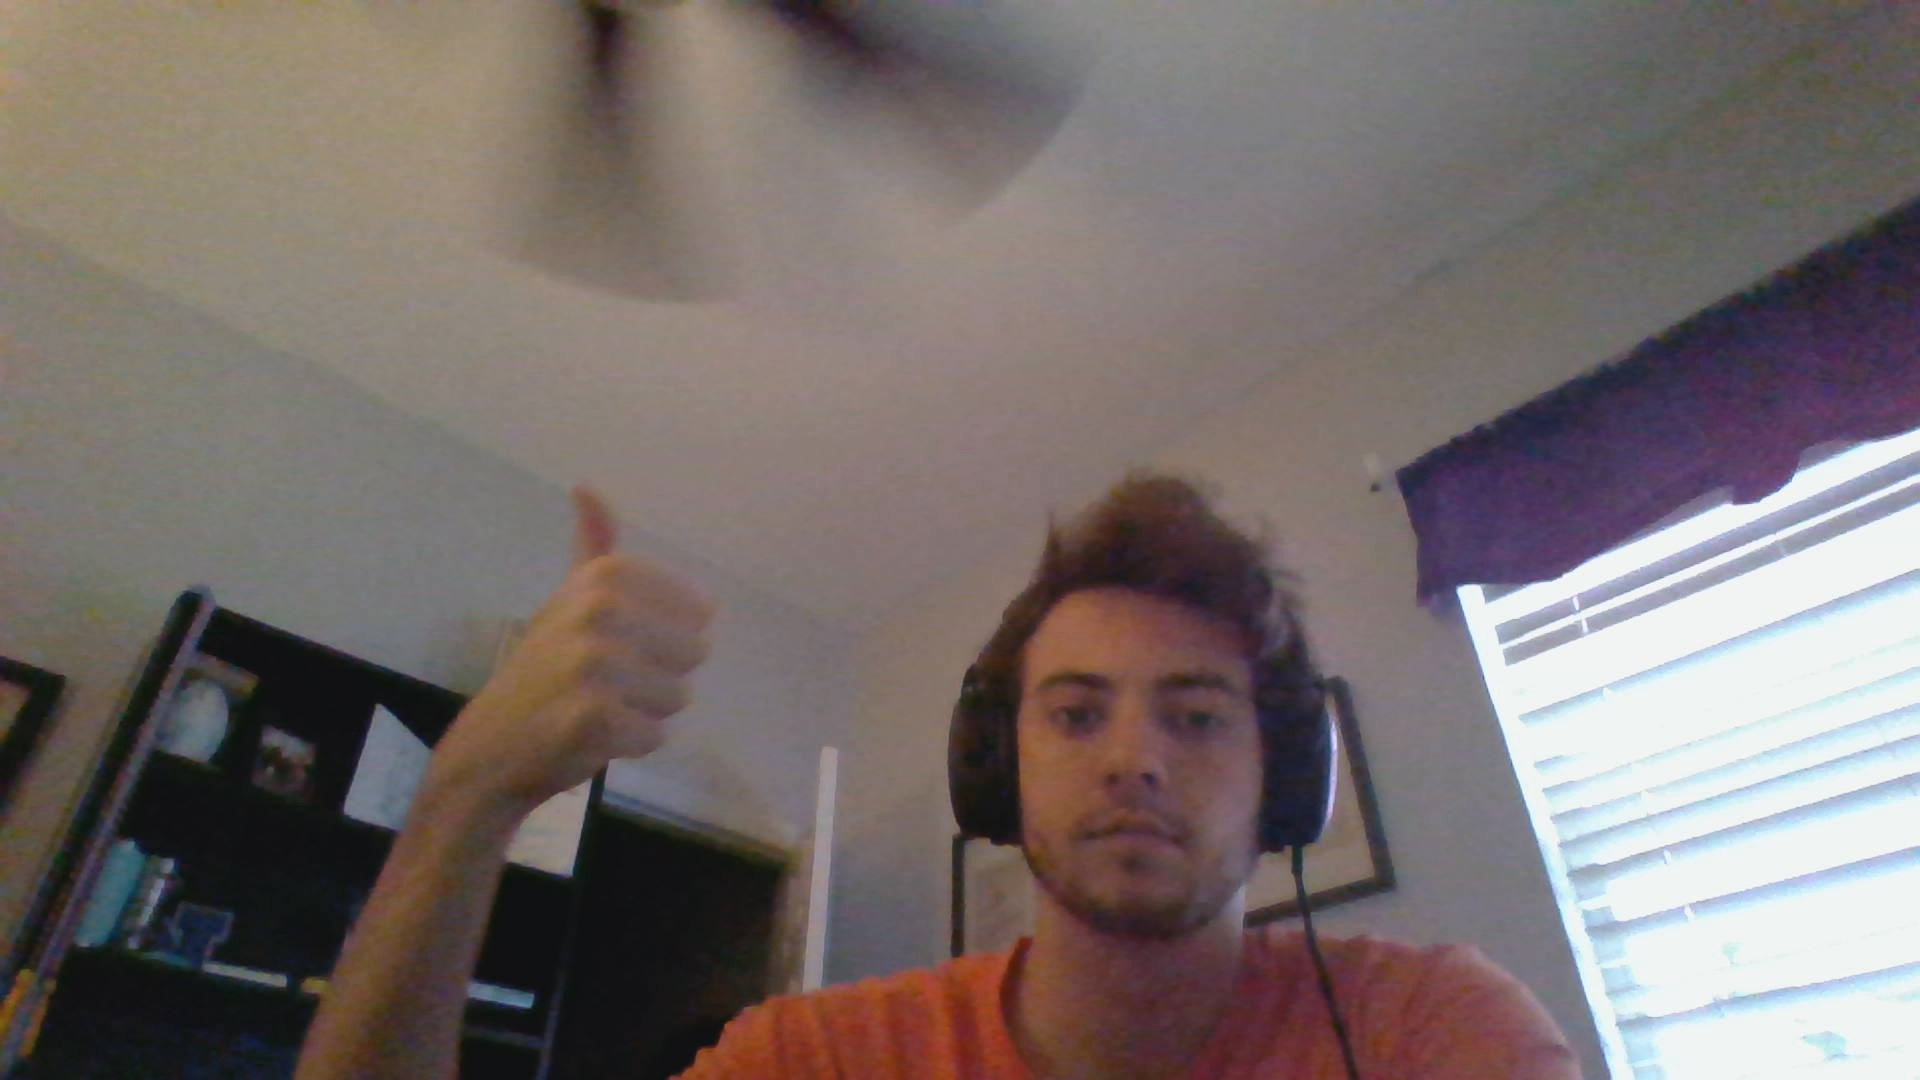Right Palm Up: (456, 471, 713, 794)
